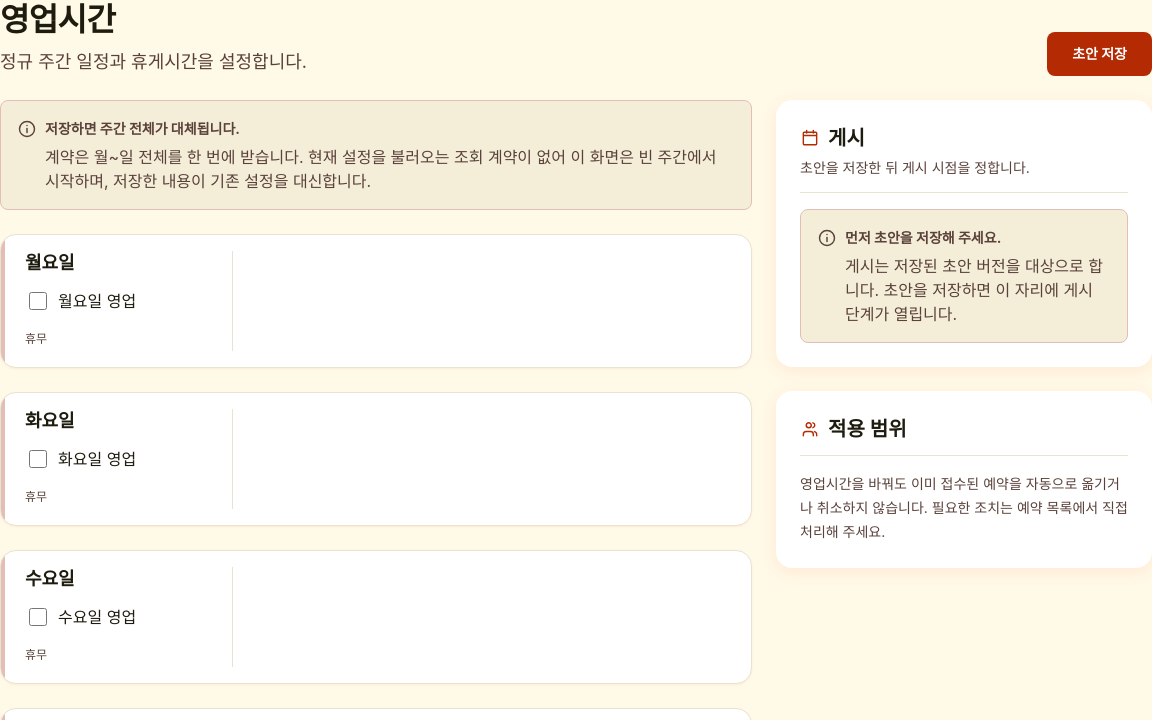
it: 영업시간 화면 › 휴게시간이 영업 구간 밖이면 저장하지 않는다
Click the checkbox labelled "월요일 영업" at (38, 301), box [29,292,47,310]
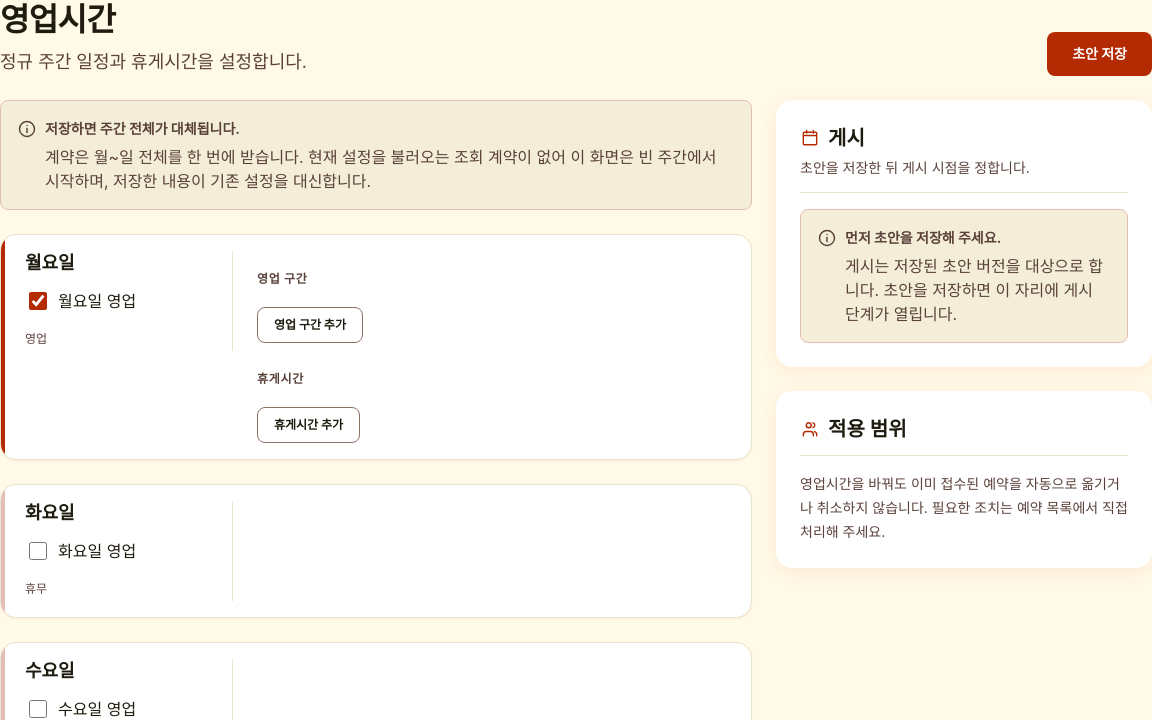
Click the button "영업 구간 추가" at (310, 325), box [257,307,363,343]
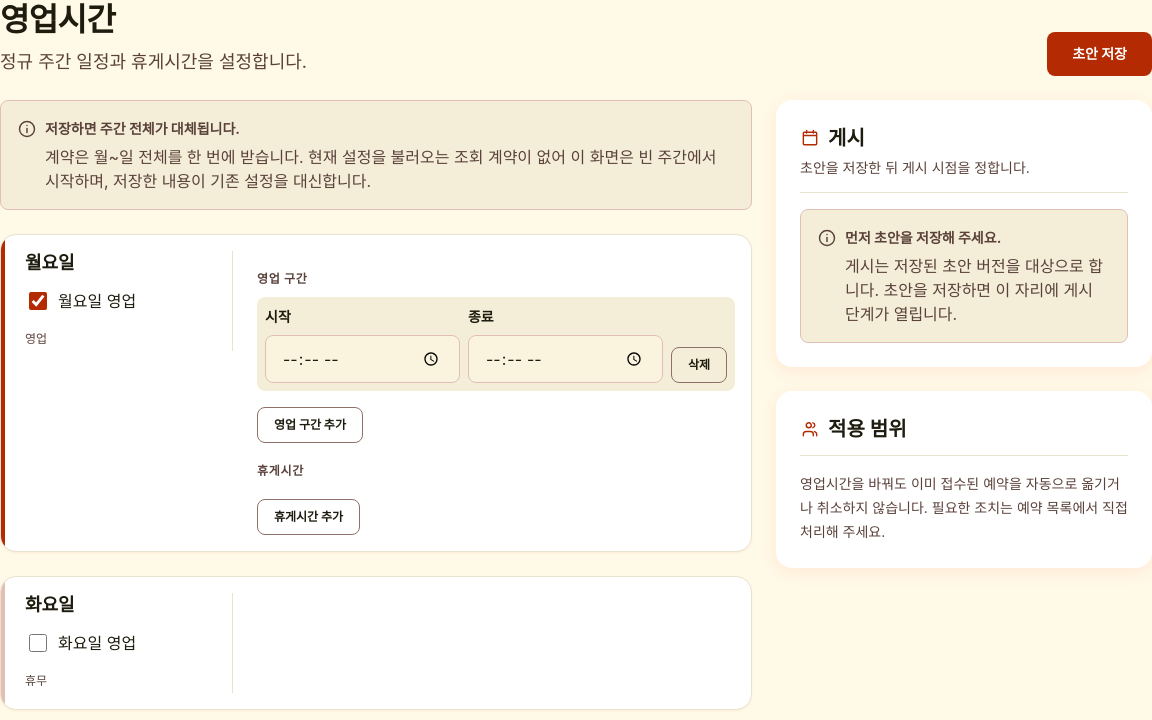
Type "09:00" into the time field labelled "시작" at (362, 359), box [265,335,460,383]
Type "12:00" into the time field labelled "종료" at (566, 359), box [468,335,663,383]
Click the button "휴게시간 추가" at (309, 517), box [257,499,360,535]
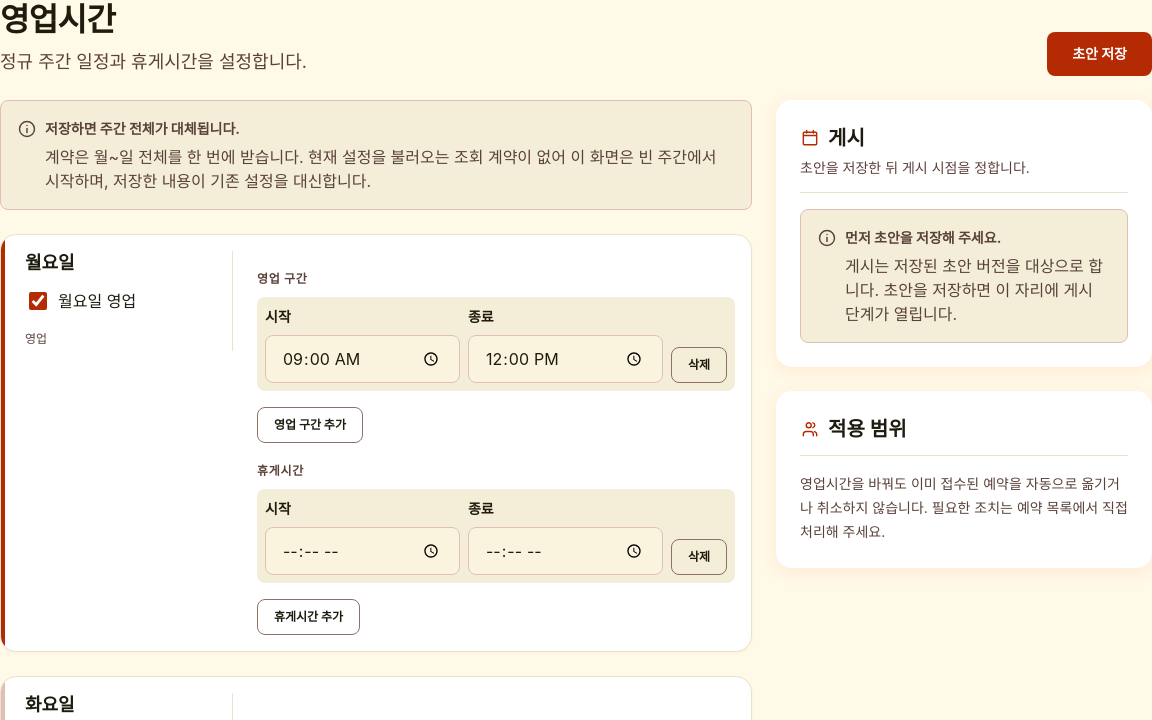
Type "13:00" into the 2nd time field labelled "시작" at (362, 551), box [265,527,460,575]
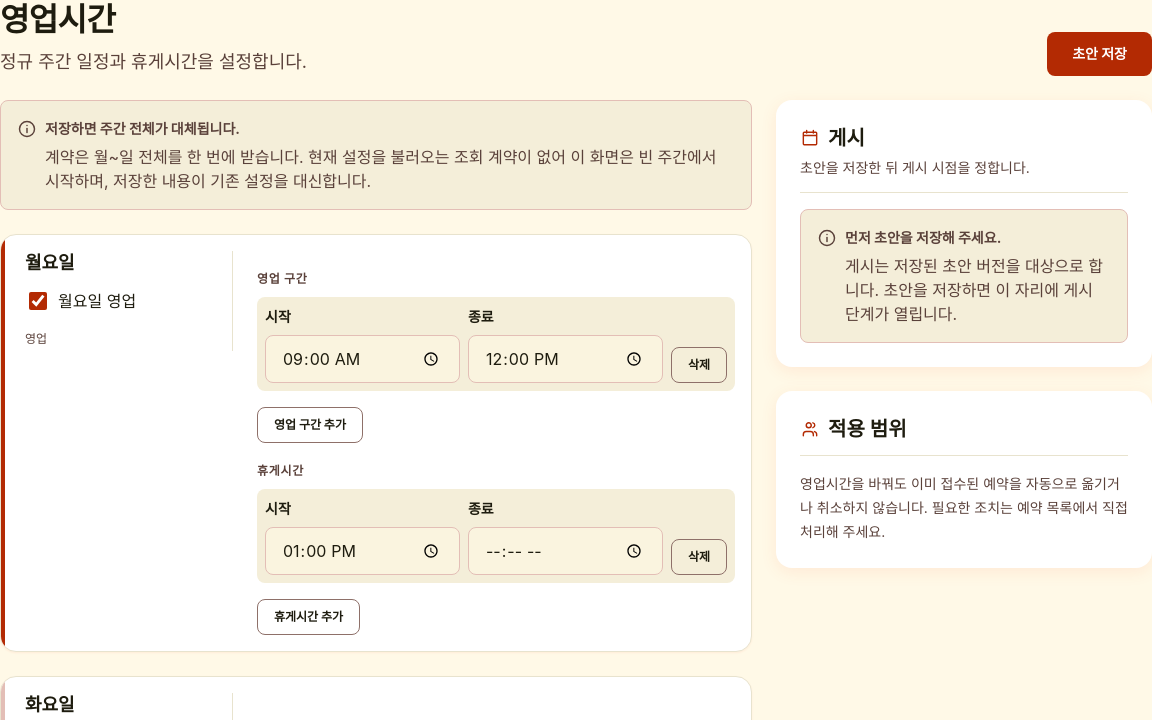
Type "14:00" into the 2nd time field labelled "종료" at (566, 551), box [468,527,663,575]
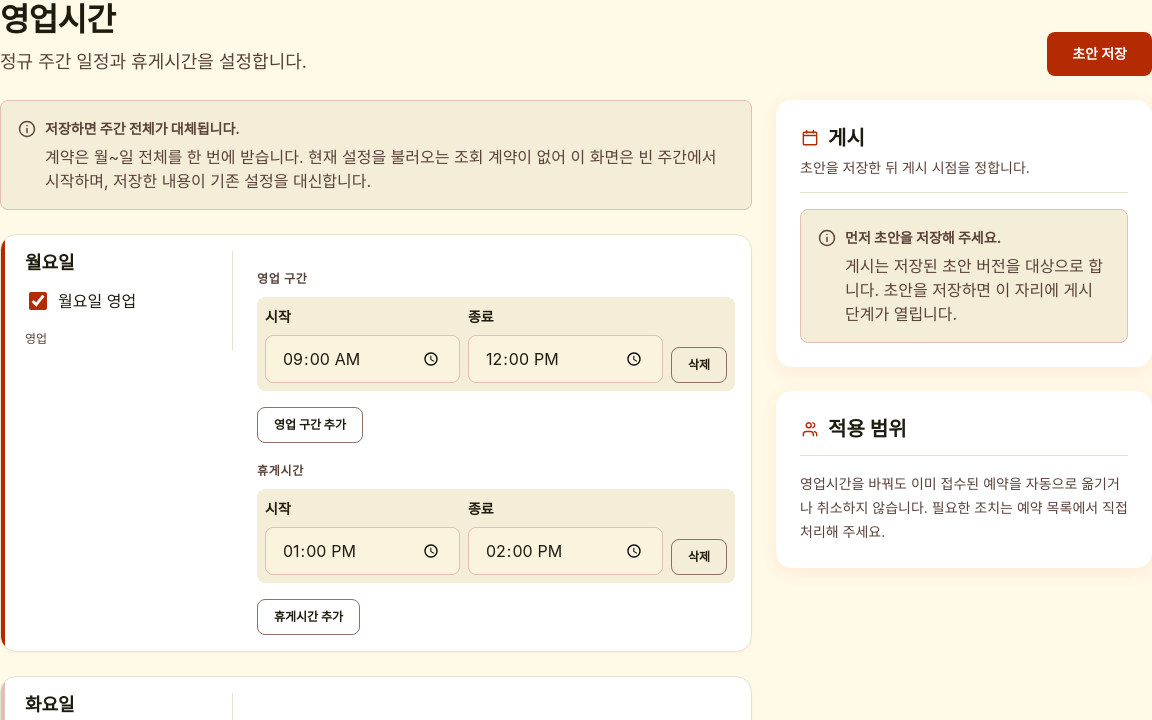
Click the button "초안 저장" at (1100, 54), box [1047,32,1151,76]
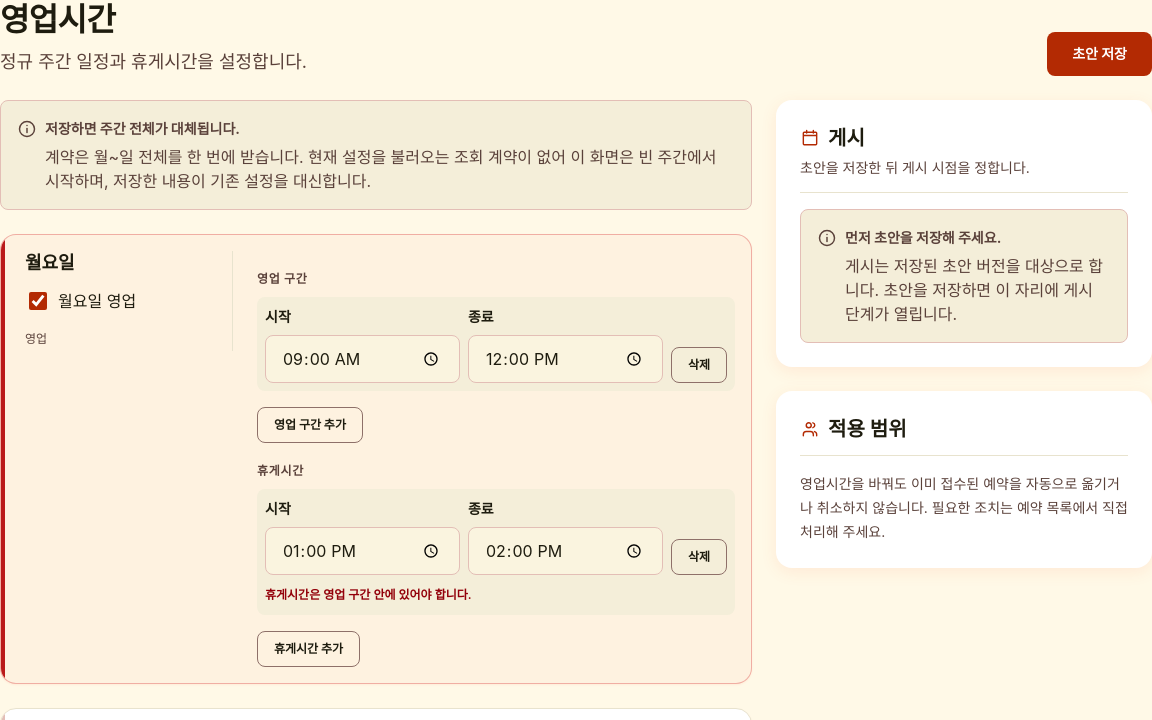
Expected: the text "휴게시간은 영업 구간 안에 있어야 합니다." is shown, [265,587,472,602]
